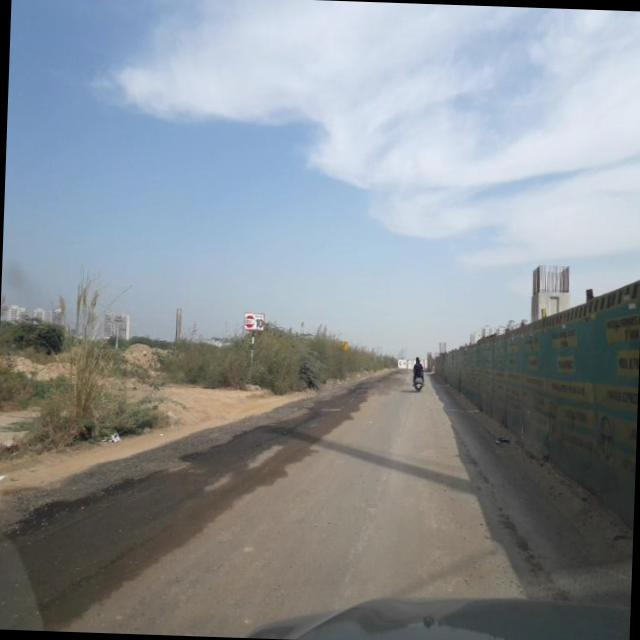pothole: (25, 490, 204, 622), (221, 396, 322, 484)
